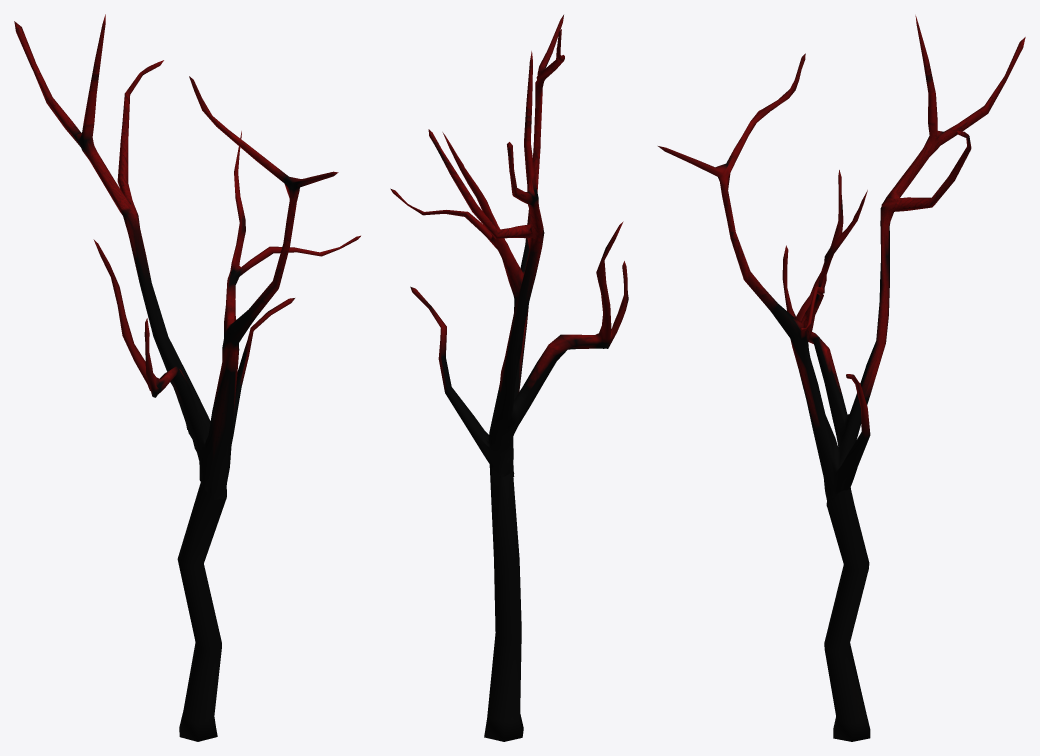
File: redmaple.gltf
The picture shows the model from 3 angles, left to right: view 1: azimuth 30°, elevation 25°; view 2: azimuth 150°, elevation 25°; view 3: azimuth 270°, elevation 25°; orthographic projection. The views are drawn at different scales.
Visible parts, largest first — view 1: Cube; view 2: Cube; view 3: Cube.
Part boxes in pixels (x1,y1,x2,y2): Cube: (14, 14, 360, 741); Cube: (390, 15, 628, 741); Cube: (658, 15, 1025, 741).
Bounding box in the file's own units: 7.91 × 21.55 × 10.41.
